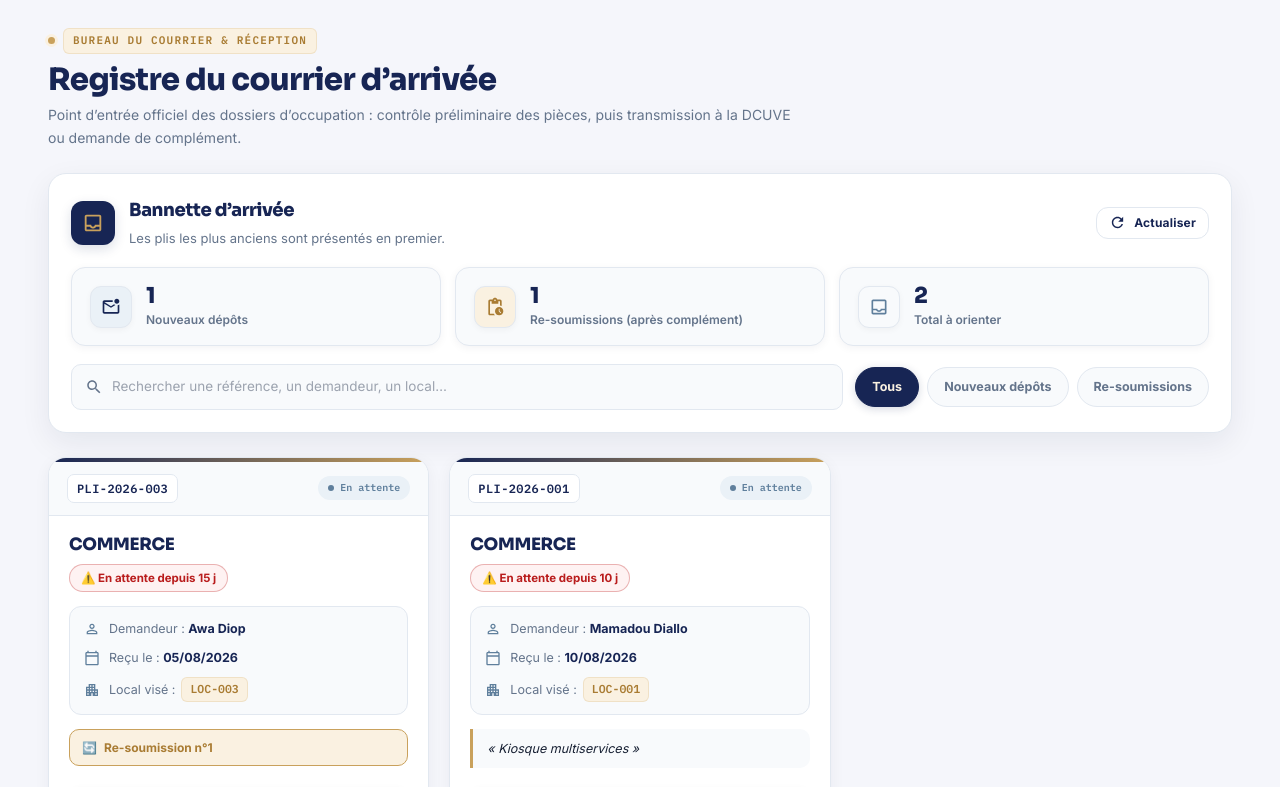
Test: BureauCourrierView › filtre les plis avec la recherche textuelle
Expected: the text "PLI-2026-001" is shown, [468,474,580,503]
Type "Awa" into the search field with placeholder "Rechercher une référence, un demandeur, un local…".
click(457, 387); type("Awa")  # box [71,364,843,410]
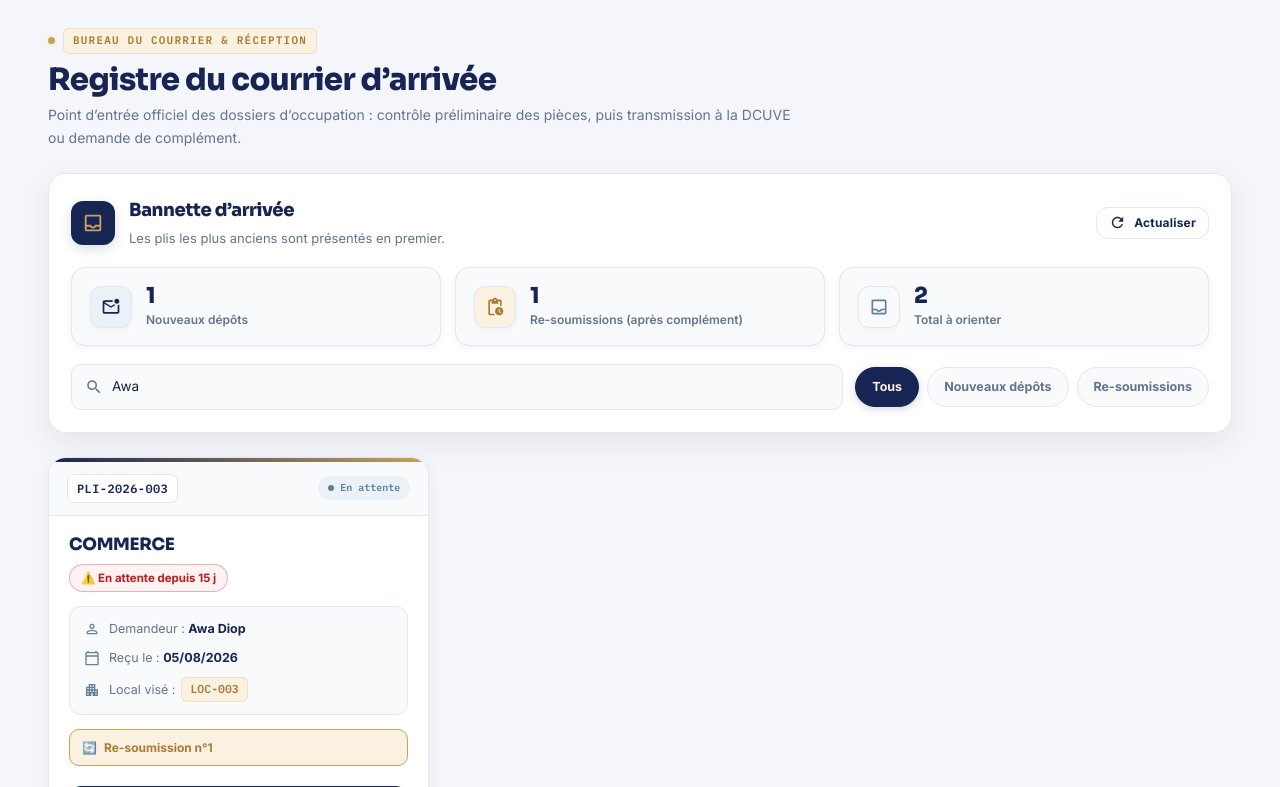
Expected: the text "PLI-2026-003" is shown, [67,474,178,503]
Expected: the text "PLI-2026-001" is gone
